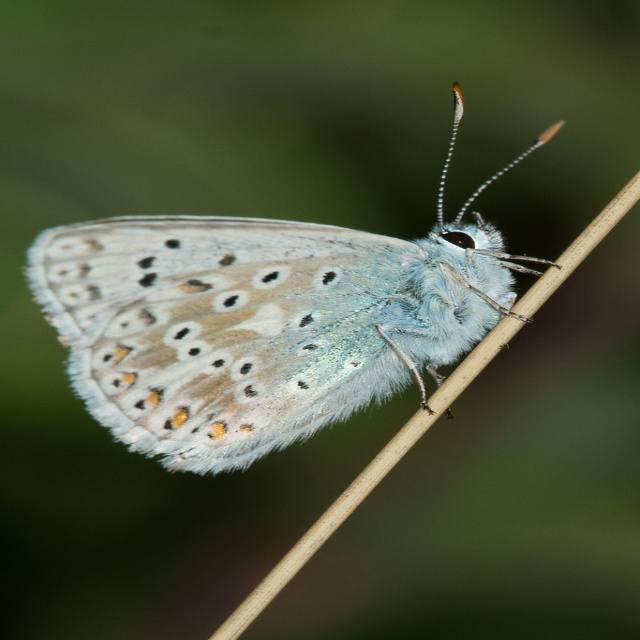Butterfly: (37, 65, 596, 492)
